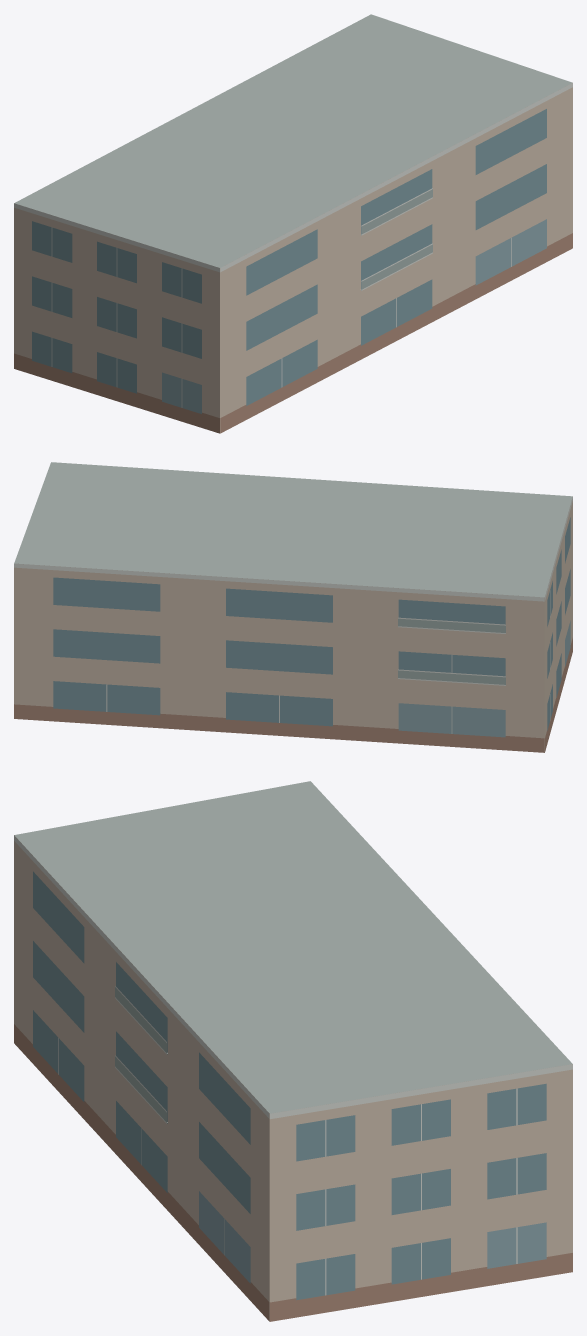
File: survey-upis-32835035.glb
3 renders of one model, top to bottom at view 1: azimuth 30°, elevation 25°; view 2: azimuth 150°, elevation 25°; view 3: azimuth 270°, elevation 25°, orthographic. The views are drawn at different scales.
Visible parts, largest first — view 1: survey-upis-32835035.tmp; view 2: survey-upis-32835035.tmp; view 3: survey-upis-32835035.tmp.
Boxes of the visible parts, left/top/right/bottom form: survey-upis-32835035.tmp: left=14, top=14, right=572, bottom=433; survey-upis-32835035.tmp: left=14, top=462, right=572, bottom=752; survey-upis-32835035.tmp: left=14, top=781, right=572, bottom=1321.
Bounding box in the file's own units: 31.38 × 9.15 × 22.28.
